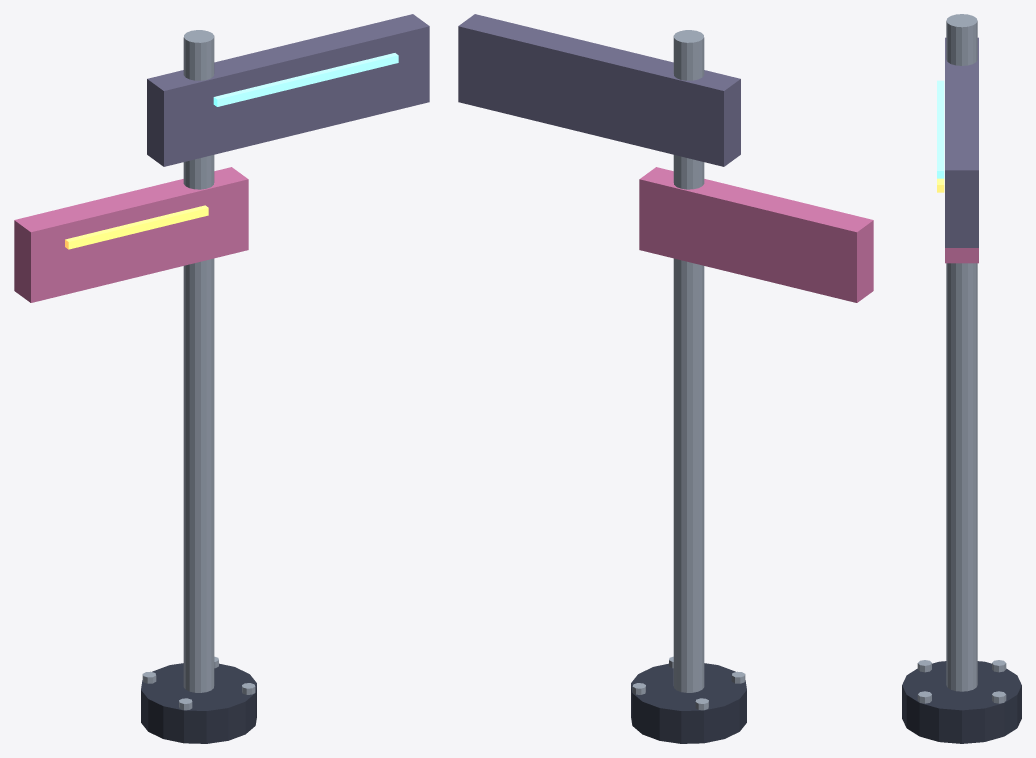
Rendered from neon-dispatch-courier-route-signpost__180.glb.
3 views of the same model, side by side, from view 1: azimuth 30°, elevation 25°; view 2: azimuth 150°, elevation 25°; view 3: azimuth 270°, elevation 25° (orthographic). The views are drawn at different scales.
Visible parts, largest first — view 1: shell, accent, metal, dark, light, warm; view 2: shell, accent, metal, dark; view 3: metal, dark, shell, light, accent.
Boxes of the visible parts, bbox=[...] form: shell: bbox=[147, 14, 429, 166]; accent: bbox=[14, 167, 248, 302]; metal: bbox=[142, 30, 255, 710]; dark: bbox=[141, 663, 256, 743]; light: bbox=[213, 53, 398, 106]; warm: bbox=[65, 205, 208, 249]; shell: bbox=[458, 14, 740, 166]; accent: bbox=[639, 167, 873, 302]; metal: bbox=[632, 30, 745, 710]; dark: bbox=[631, 663, 746, 743]; metal: bbox=[917, 14, 1006, 703]; dark: bbox=[902, 661, 1021, 743]; shell: bbox=[945, 37, 978, 247]; light: bbox=[937, 80, 944, 178]; accent: bbox=[945, 248, 978, 263].
Bounding box in the file's own units: 1.65 × 2.7 × 0.42.
